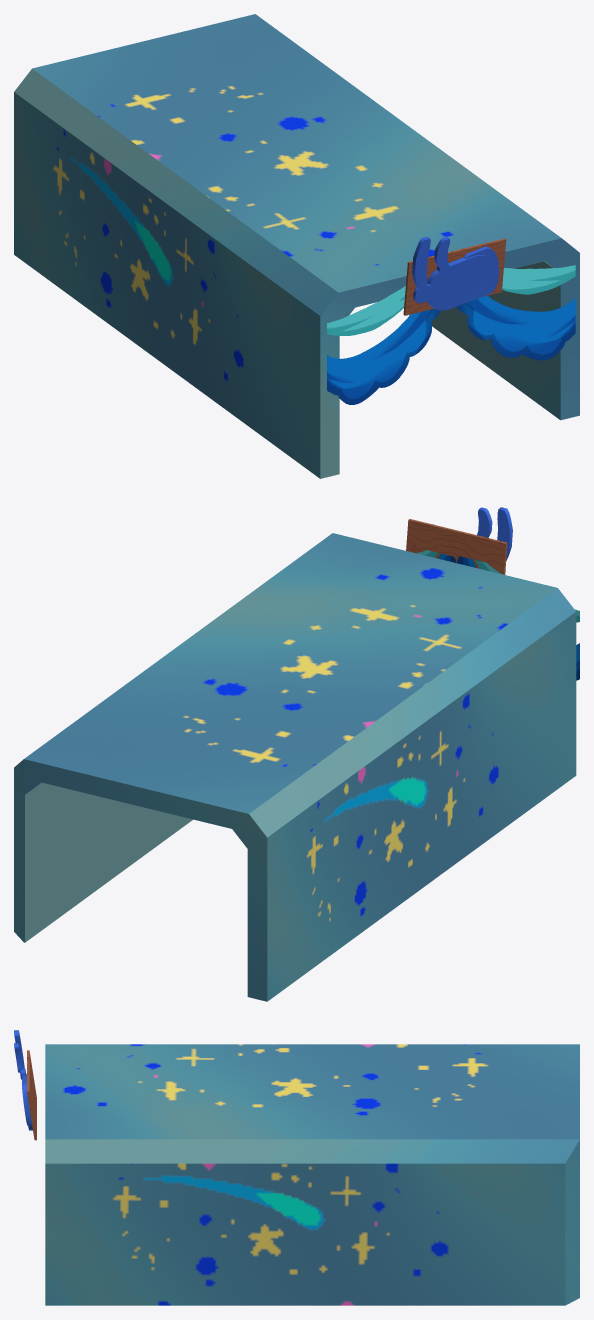
Rendered from rhino_tent.fbx.
The picture shows the model from 3 angles, top to bottom: view 1: azimuth 30°, elevation 25°; view 2: azimuth 150°, elevation 25°; view 3: azimuth 270°, elevation 25°; orthographic projection. The views are drawn at different scales.
Parts seen in each view (by area): view 1: polySurface1, pPlane31, pPlane32, pPlane40, pPlane39; view 2: polySurface1, pPlane39, pPlane40; view 3: polySurface1, pPlane40, pPlane39.
Boxes of the visible parts, bbox=[...] form: polySurface1: bbox=[14, 14, 579, 478]; pPlane31: bbox=[456, 265, 575, 360]; pPlane32: bbox=[327, 286, 440, 404]; pPlane40: bbox=[412, 236, 499, 310]; pPlane39: bbox=[403, 238, 506, 315]; polySurface1: bbox=[14, 533, 576, 1001]; pPlane39: bbox=[406, 519, 507, 574]; pPlane40: bbox=[433, 507, 512, 571]; polySurface1: bbox=[45, 1044, 579, 1305]; pPlane40: bbox=[14, 1030, 32, 1130]; pPlane39: bbox=[27, 1050, 36, 1140].
Size of the model in its own units: 37.77 by 32.09 by 81.69.
